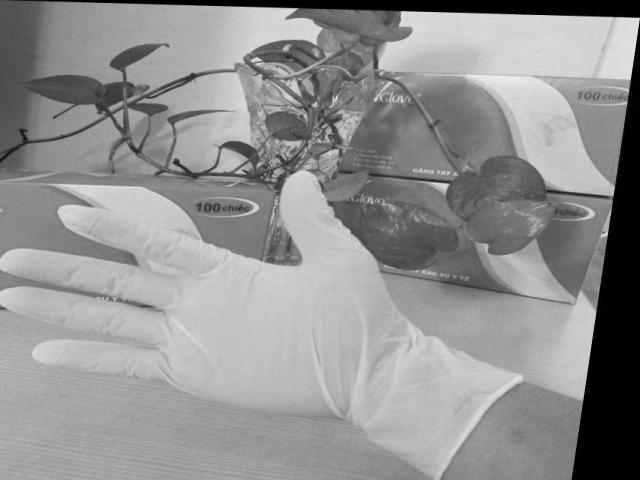gloved: (0, 169, 370, 424)
